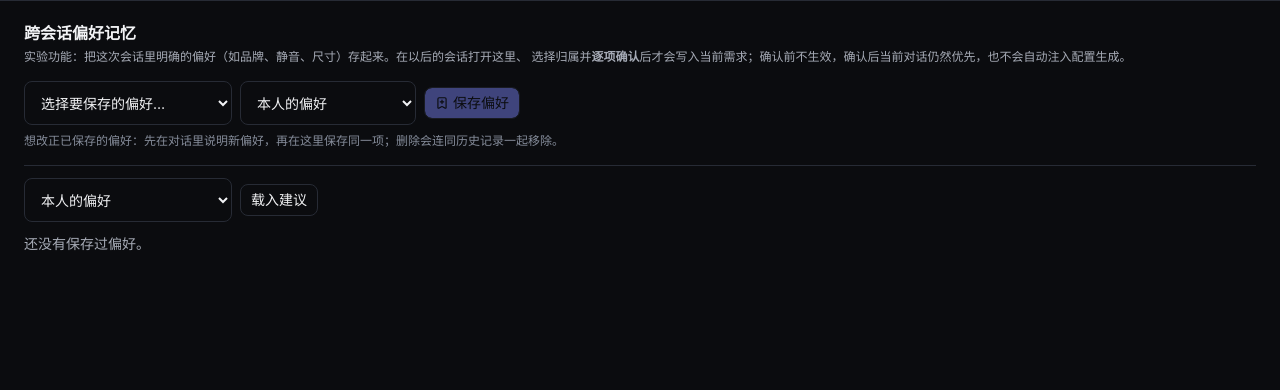
it: PreferencesPanel 召回确认 › 多身份冲突时每个候选值各自展示来源原话,不能只显示首选
The width and height of the screenshot is (1280, 390).
Click the button "载入建议" at (279, 200), box x1=240 y1=184 x2=318 y2=216
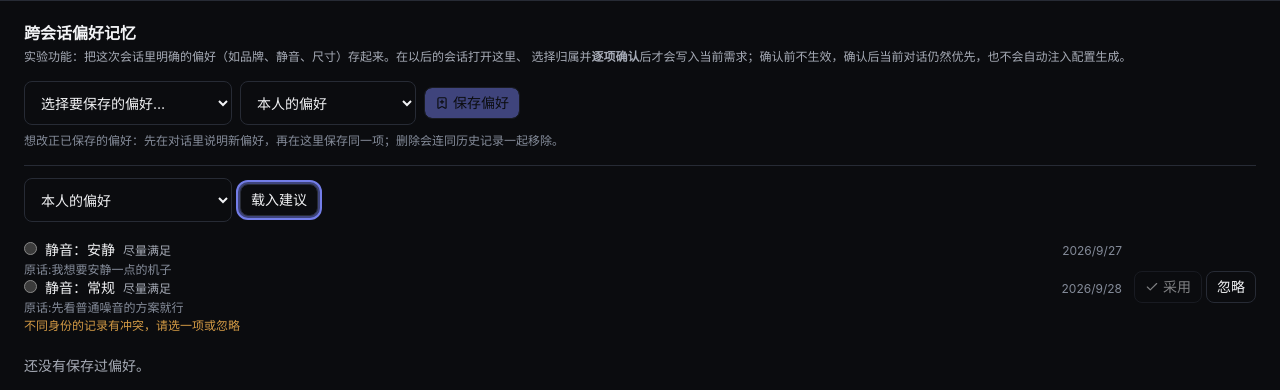
Check: the text "不同身份的记录有冲突，请选一项或忽略" is shown, box x1=24 y1=318 x2=240 y2=333
Check: the text titled "我想要安静一点的机子" is shown, box x1=24 y1=262 x2=172 y2=277
Check: the text titled "先看普通噪音的方案就行" is shown, box x1=24 y1=300 x2=184 y2=315
